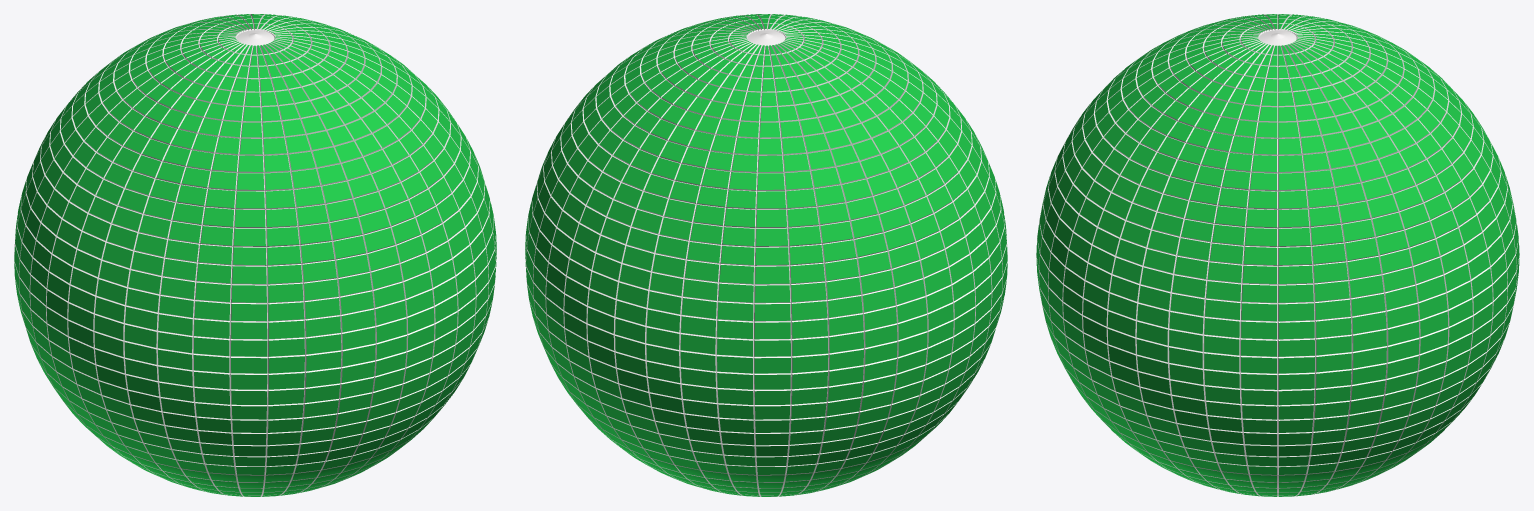
Rendered from DiscoBall.fbx.
The picture shows the model from 3 angles, left to right: view 1: azimuth 30°, elevation 25°; view 2: azimuth 150°, elevation 25°; view 3: azimuth 270°, elevation 25°; orthographic projection.
Visible parts, largest first — view 1: DiscoBall; view 2: DiscoBall; view 3: DiscoBall.
Part boxes in pixels (x1,y1,x2,y2): DiscoBall: (14, 14, 496, 496); DiscoBall: (525, 14, 1007, 496); DiscoBall: (1036, 14, 1519, 496).
Bounding box in the file's own units: 75.65 × 76.25 × 75.65.
